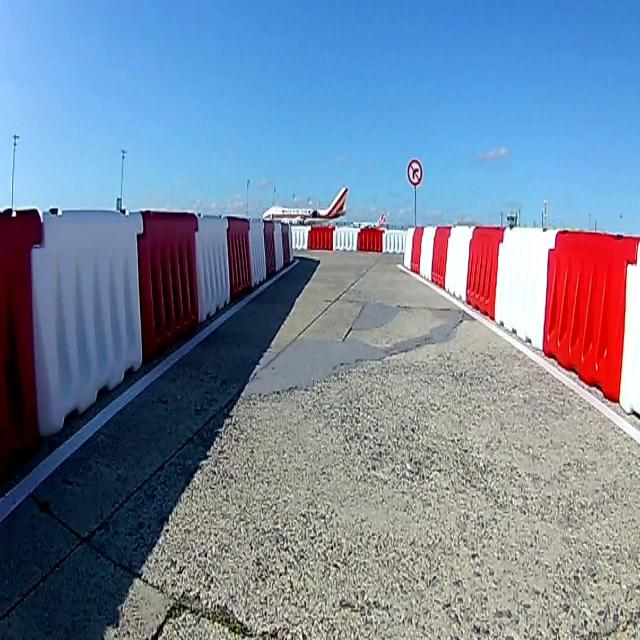sagadonulmez: (408, 161, 422, 186)
